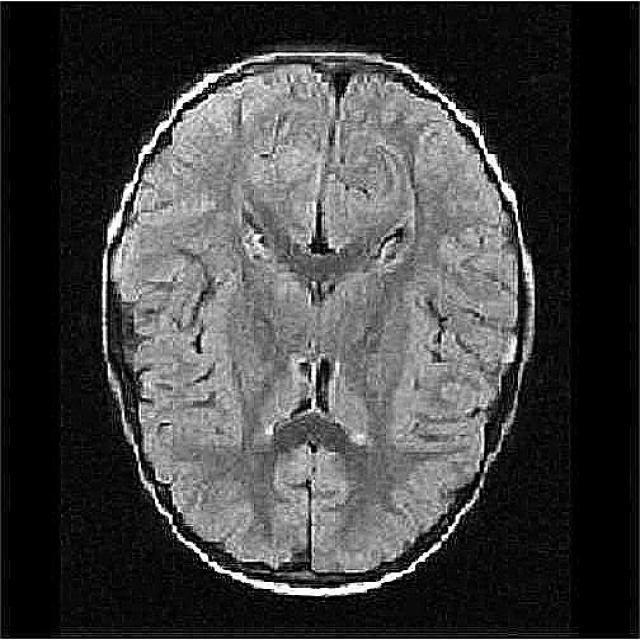notumor: (98, 50, 537, 601)
